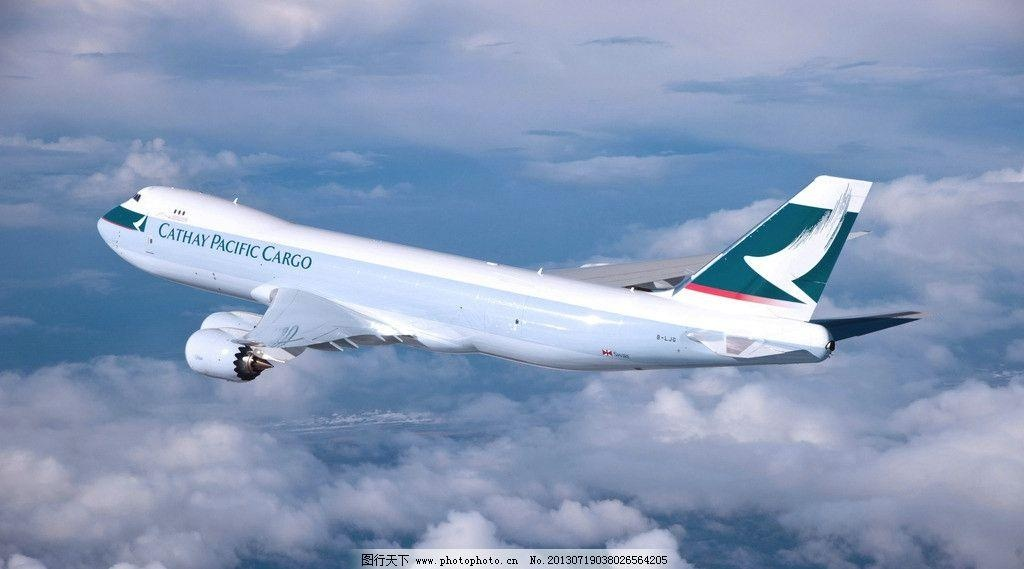airplane: (73, 168, 925, 388)
